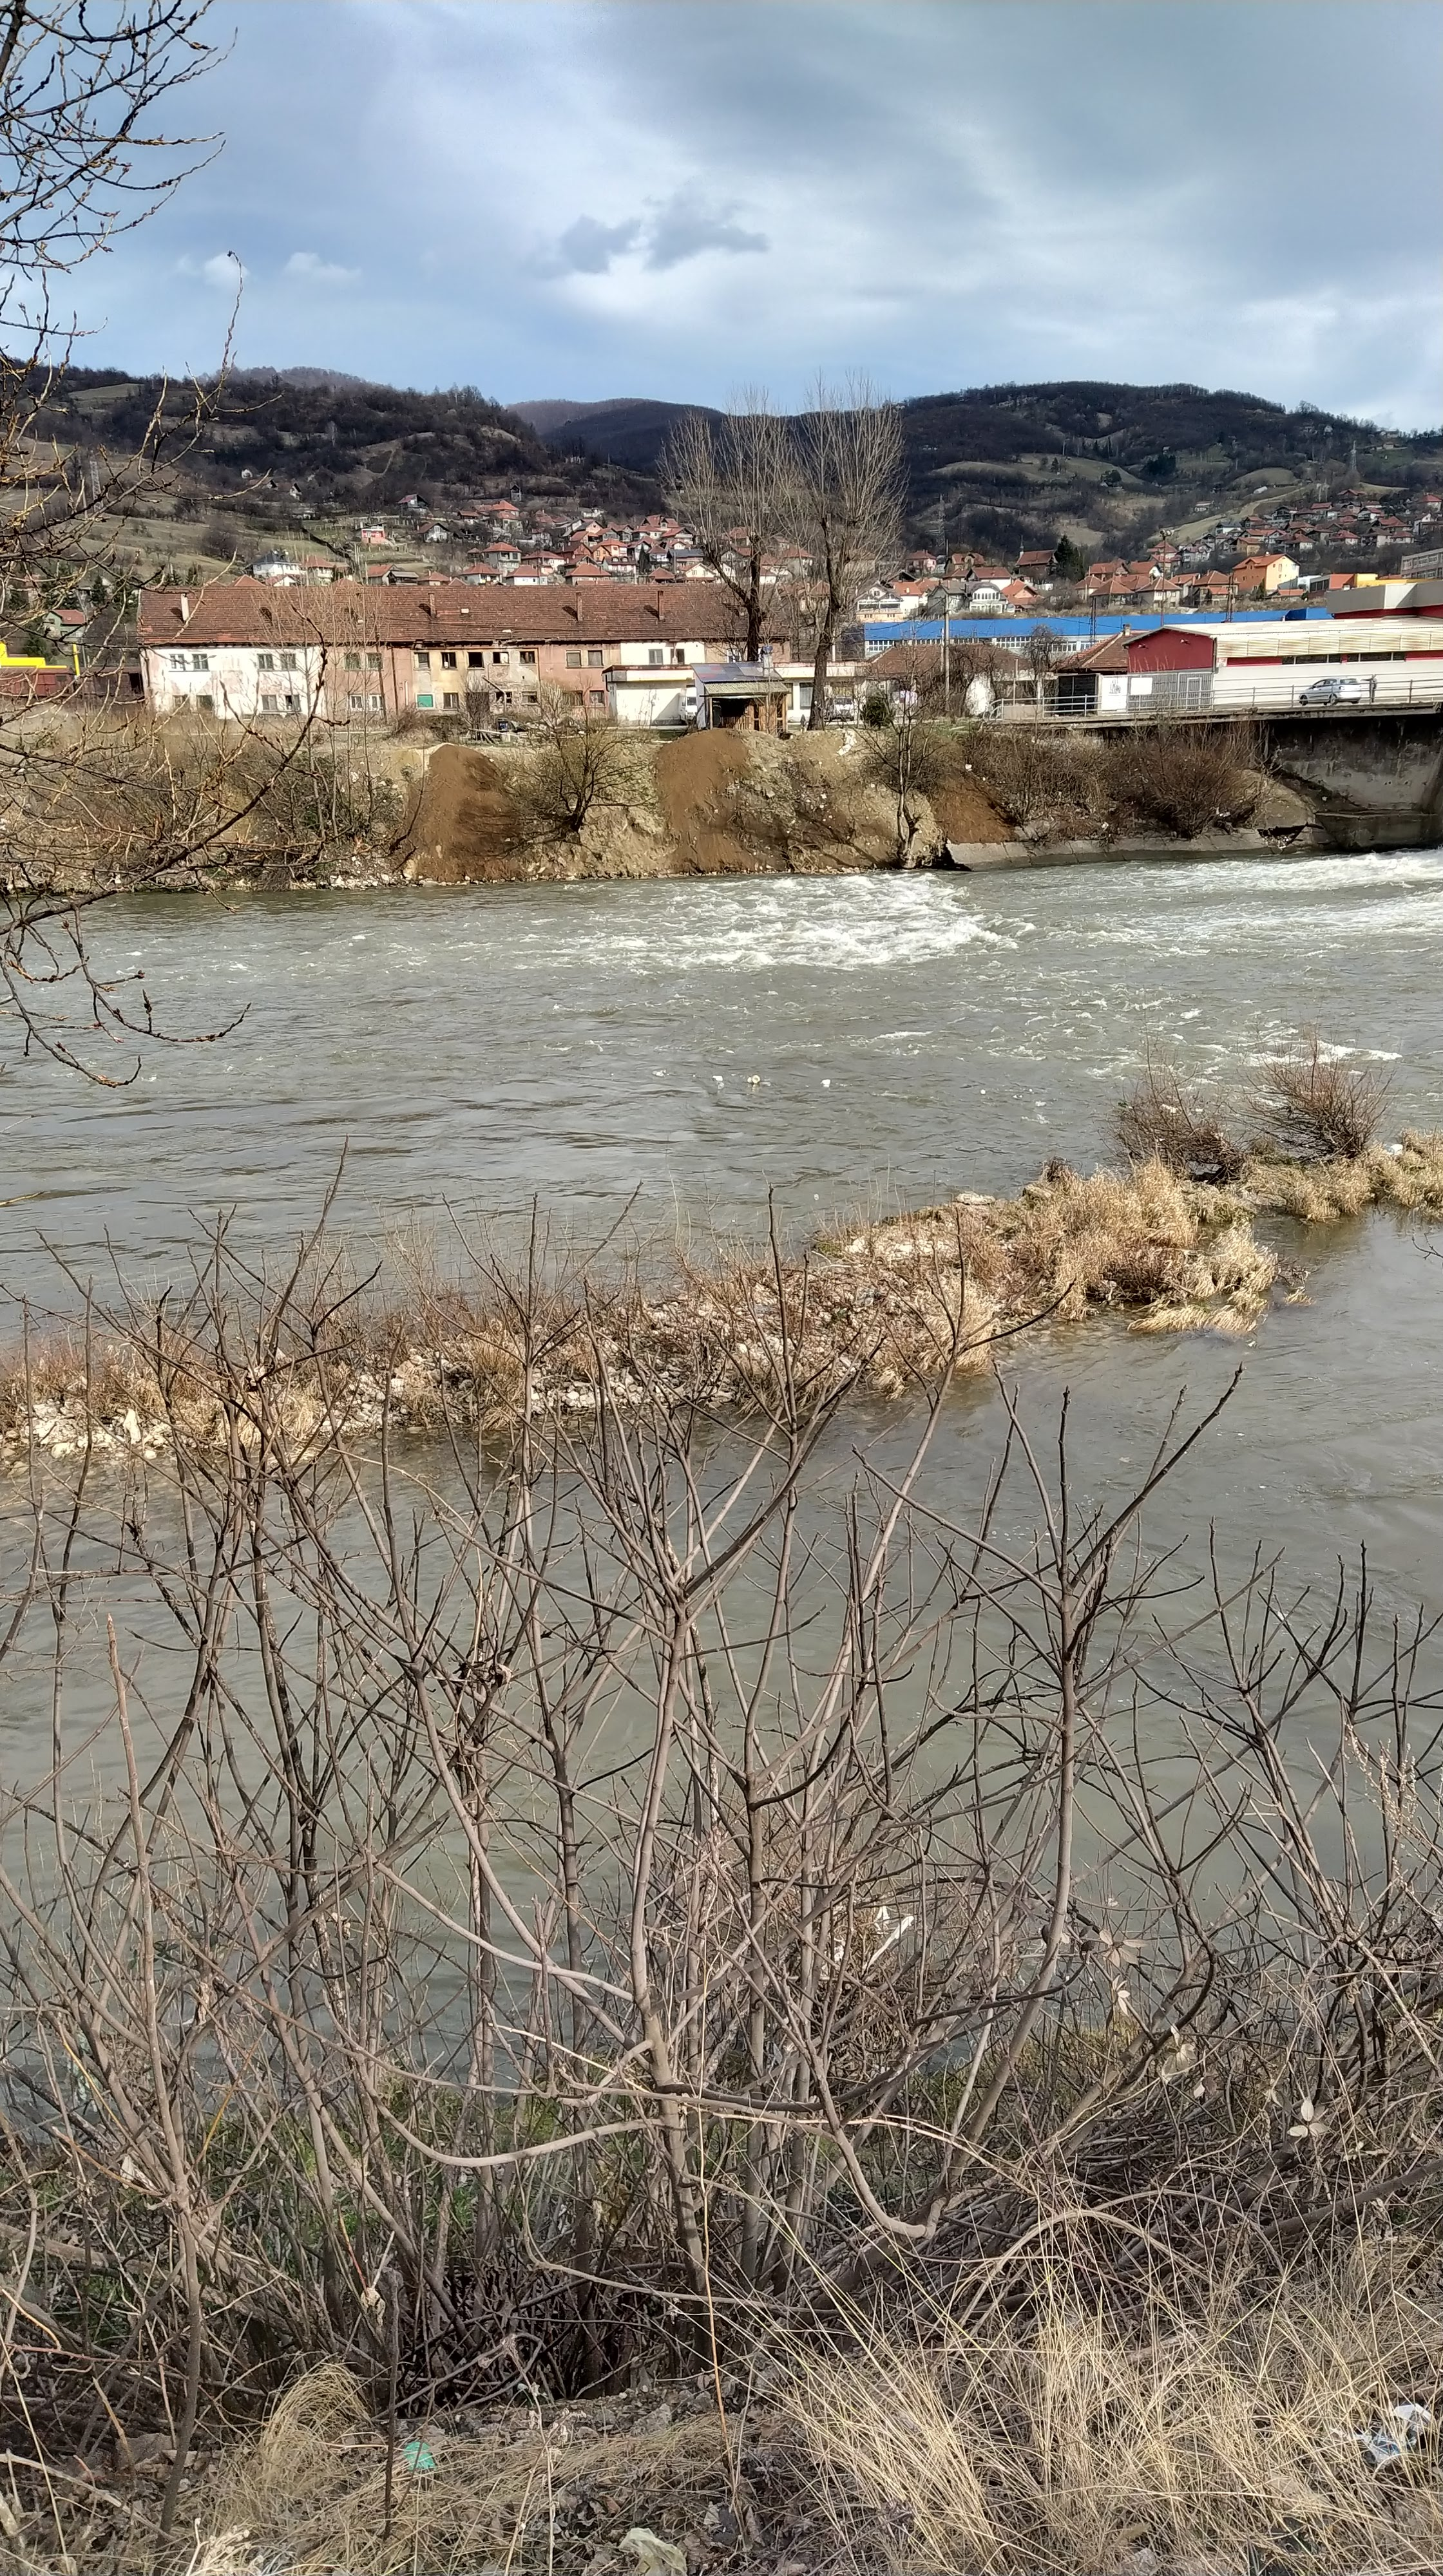Plastic Bottle: (1388, 1143, 1402, 1152), (652, 1070, 664, 1076), (761, 1081, 770, 1086), (714, 1076, 722, 1081), (823, 1079, 830, 1085), (814, 1192, 818, 1200), (719, 1083, 722, 1090)
